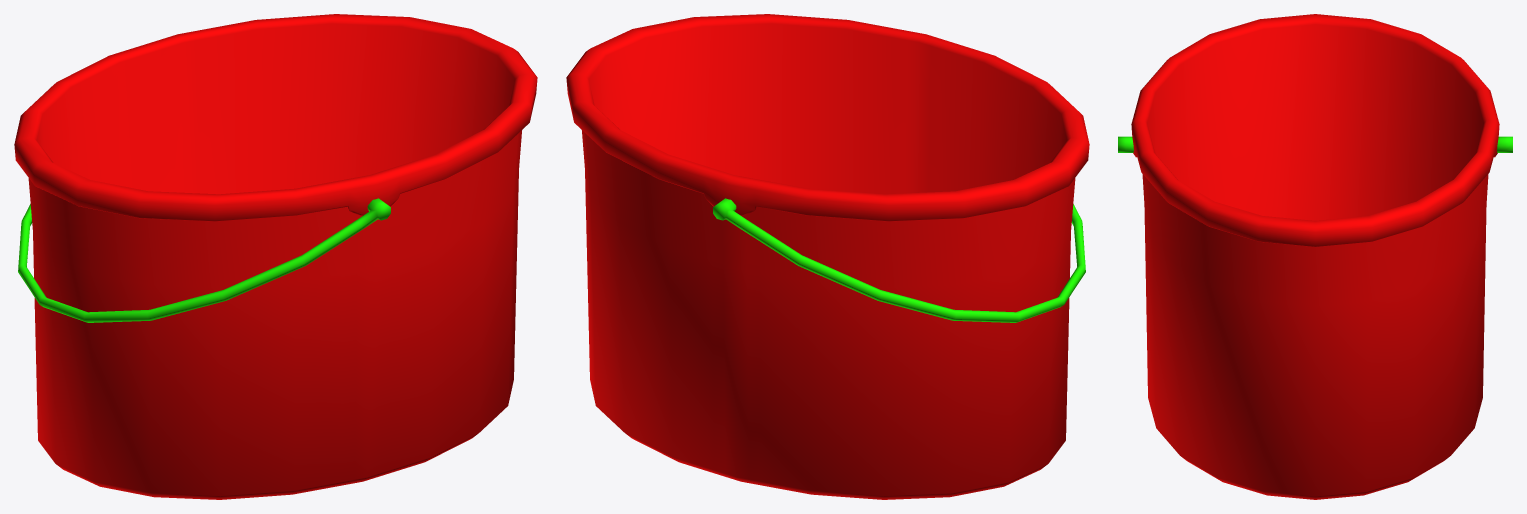
File: umgebung_putzeimer_low.FBX
3 views of the same model, side by side, from view 1: azimuth 30°, elevation 25°; view 2: azimuth 150°, elevation 25°; view 3: azimuth 270°, elevation 25° (orthographic). The views are drawn at different scales.
Visible parts, largest first — view 1: o_eimer_low, o_griff_low; view 2: o_eimer_low, o_griff_low; view 3: o_eimer_low, o_griff_low.
Boxes of the visible parts, left/top/right/bottom form: o_eimer_low: left=14, top=14, right=537, bottom=499; o_griff_low: left=18, top=198, right=390, bottom=322; o_eimer_low: left=566, top=14, right=1089, bottom=499; o_griff_low: left=713, top=198, right=1085, bottom=322; o_eimer_low: left=1131, top=14, right=1499, bottom=499; o_griff_low: left=1118, top=136, right=1512, bottom=152.
Bounding box in the file's own units: 95.5 × 73.65 × 58.65.
